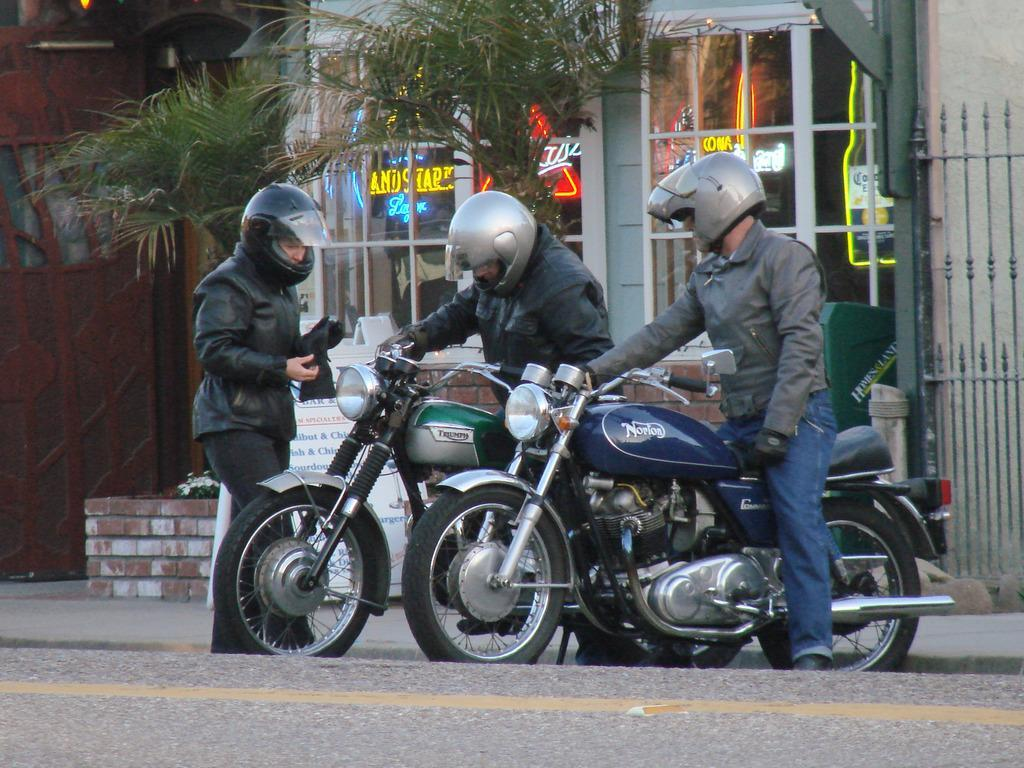helmet: (645, 149, 770, 257), (443, 189, 540, 300), (240, 181, 334, 290)
